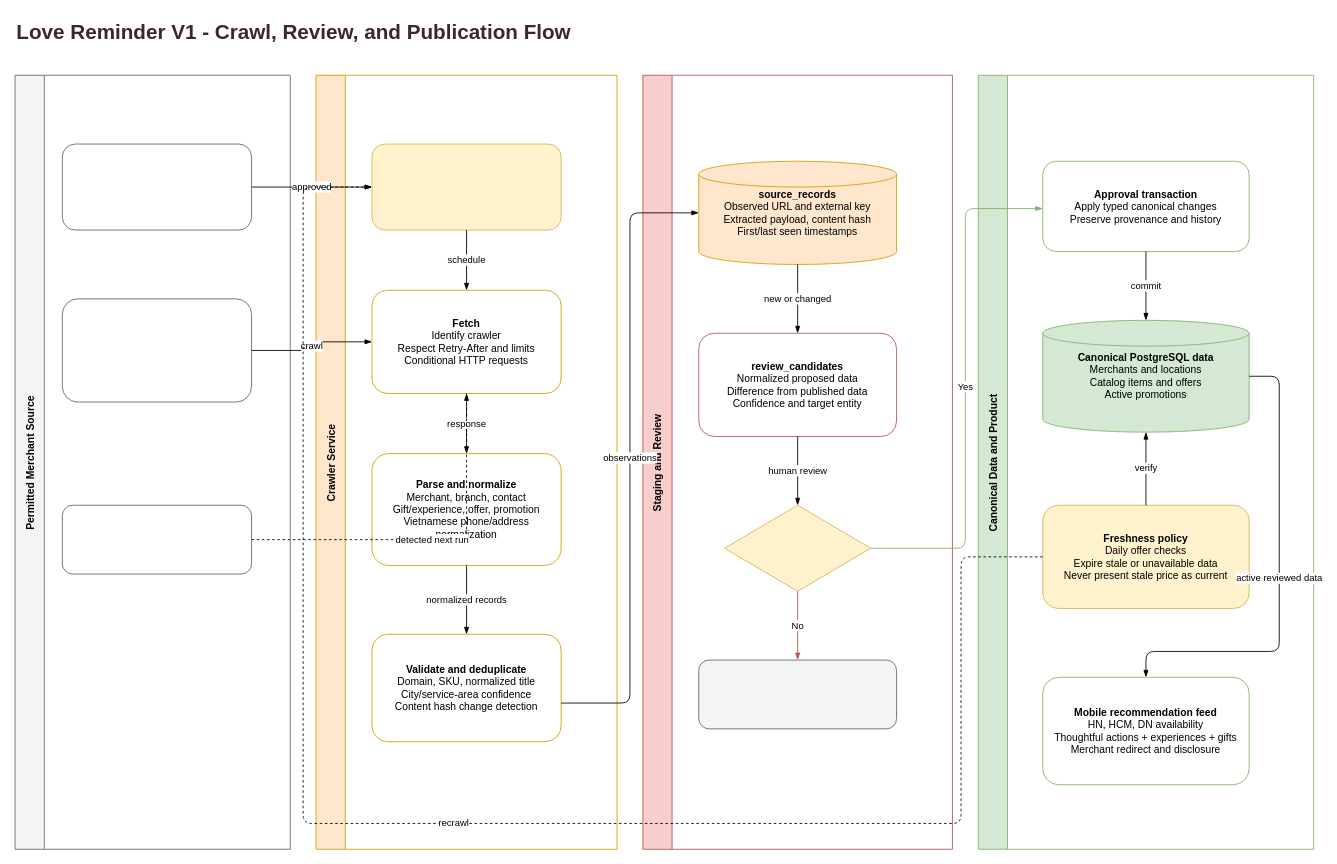
Some shapes in this 1337 by 864 pixel diagram are drawn without their labels. Each missing label, with the centre of its shape:
"Approve?" belongs at point 797,547.
"Merchant website / feed / API Products, experiences, contacts, addresses, sales" belongs at point 156,350.
"Price, stock, address, or promotion changes" belongs at point 156,539.
"Rejected / superseded Canonical data unchanged" belongs at point 797,694.
"River schedule Due sources only Per-host concurrency" belongs at point 466,186.
"Source audit Terms and robots policy Rate limit and image rights" belongs at point 156,186.
